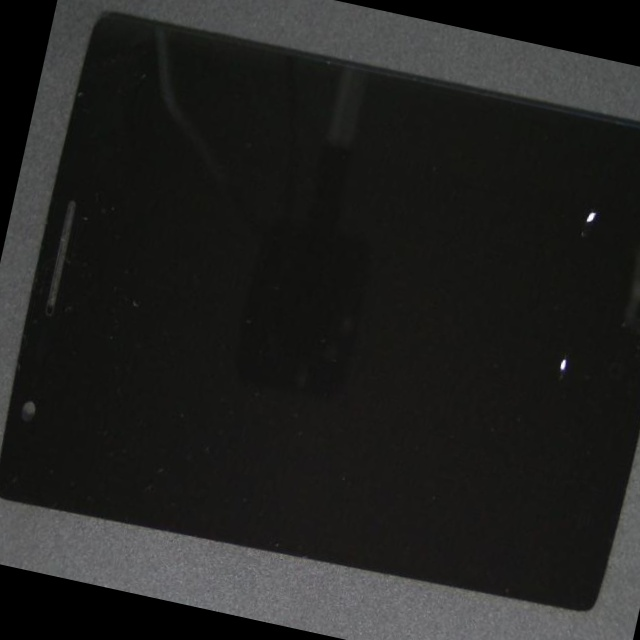stain: (267, 128, 640, 509), (316, 71, 640, 297)
